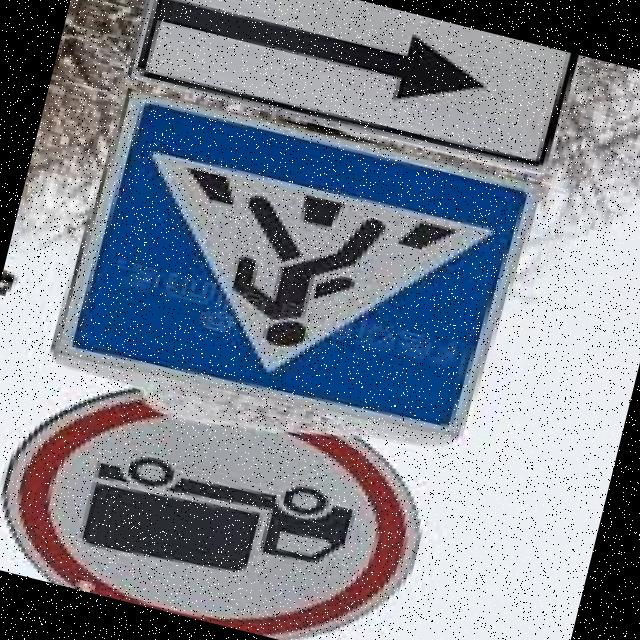crosswalk: (35, 69, 552, 450)
do_not_enter: (0, 343, 474, 640)
